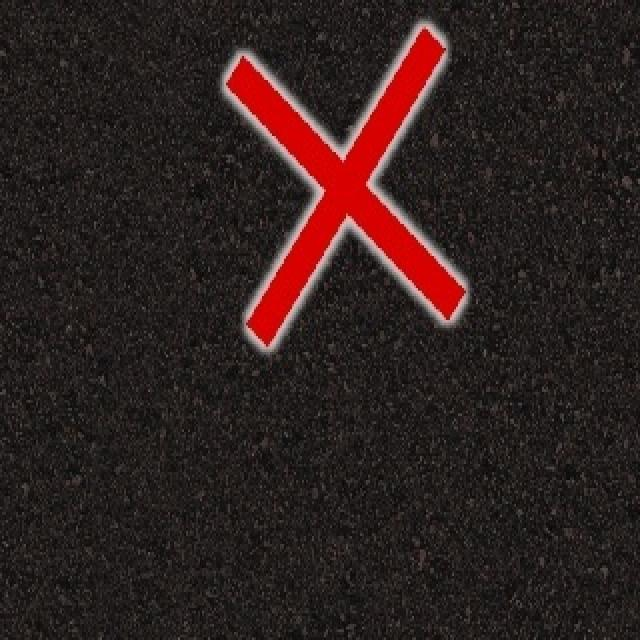x_marker: (225, 26, 463, 346)
